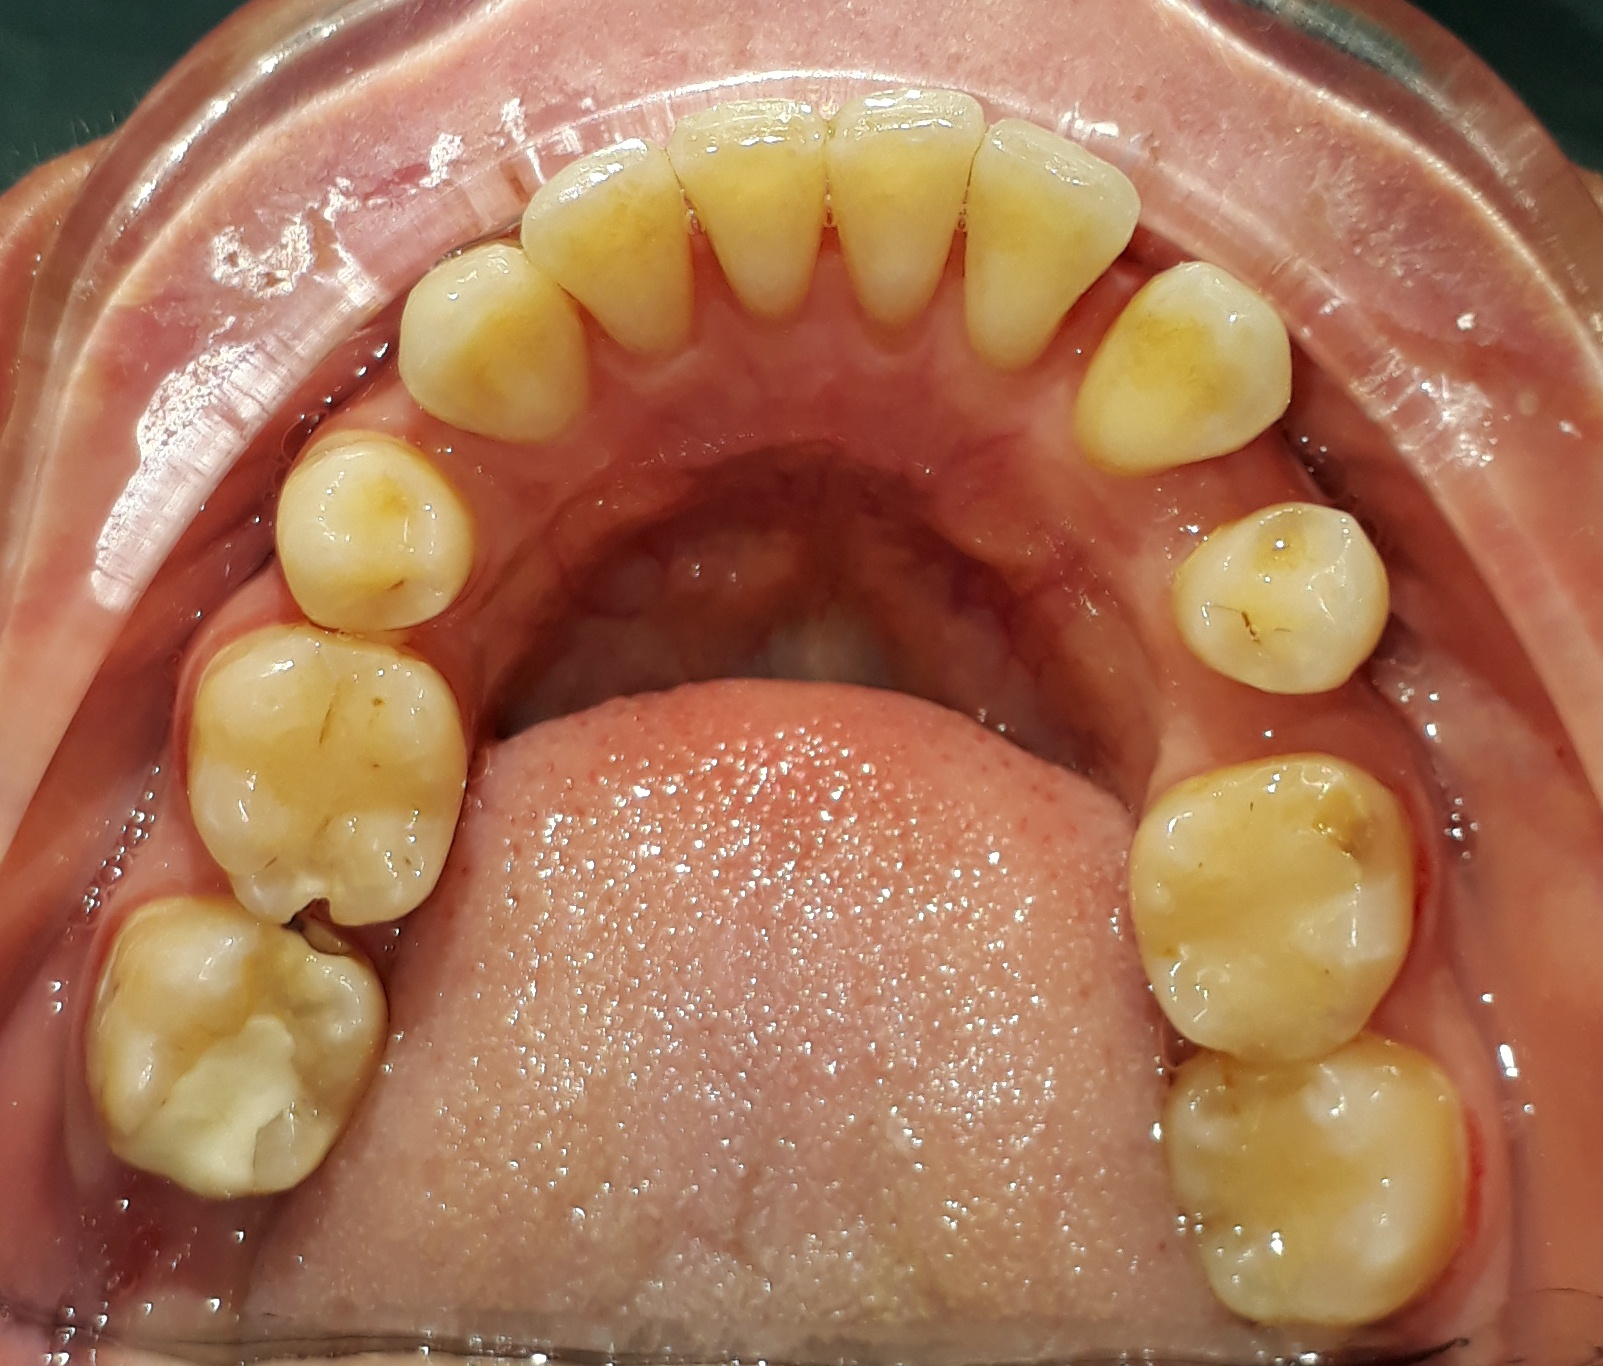1st Molar: (85, 900, 381, 1197), (1182, 1033, 1476, 1327)
1st Premolar: (1168, 499, 1389, 701), (272, 419, 473, 633)
2nd Premolar: (1131, 759, 1417, 1056), (182, 633, 461, 923)
Canine: (1075, 259, 1282, 482), (392, 241, 591, 440)
Central Incisor: (828, 85, 974, 341), (678, 95, 828, 341)
Lateral Incisor: (967, 114, 1145, 371), (518, 136, 682, 365)
